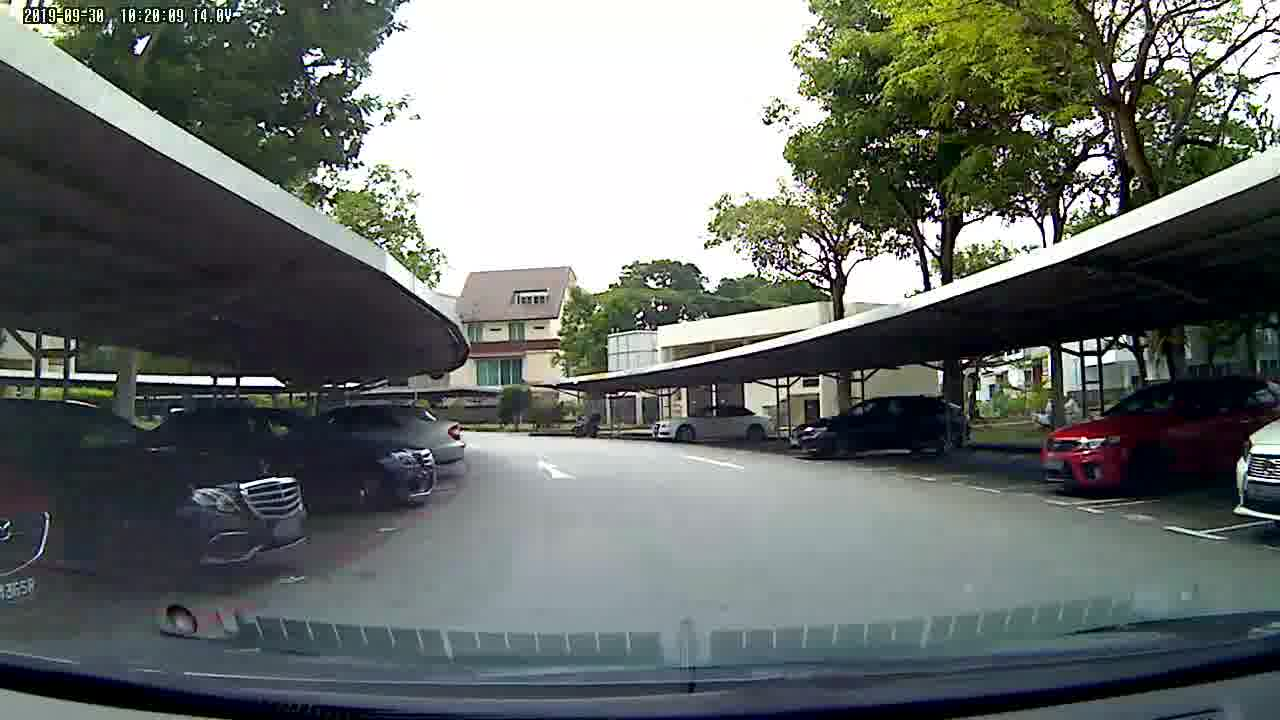car: (61, 387, 317, 583), (1027, 370, 1229, 507), (790, 387, 977, 468), (300, 414, 450, 512), (642, 398, 782, 449)
